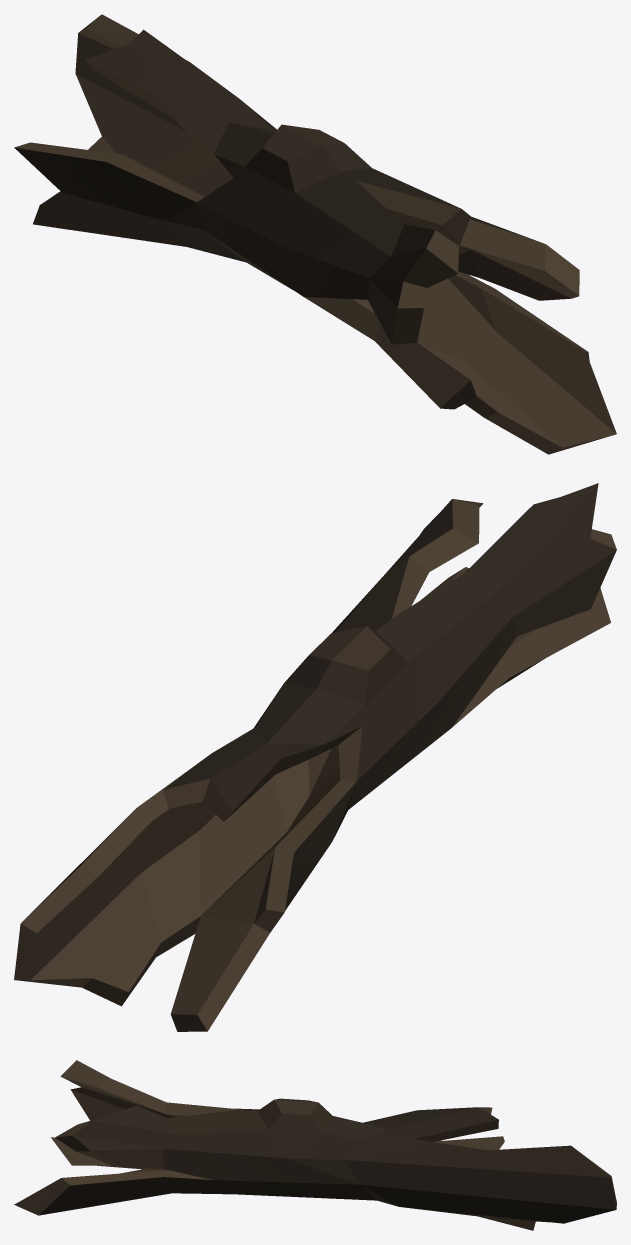
3 views of the same model, one above another, from view 1: azimuth 30°, elevation 25°; view 2: azimuth 150°, elevation 25°; view 3: azimuth 270°, elevation 25° (orthographic). The views are drawn at different scales.
Parts seen in each view (by area): view 1: SM_Tree_Log_02; view 2: SM_Tree_Log_02; view 3: SM_Tree_Log_02.
Boxes of the visible parts, x1,y1,x2,y2 form: SM_Tree_Log_02: (14,14,616,454); SM_Tree_Log_02: (14,483,616,1031); SM_Tree_Log_02: (14,1060,616,1230).
Size of the model in its own units: 0.555 by 0.691 by 2.34.
1 material, 1 textured.
